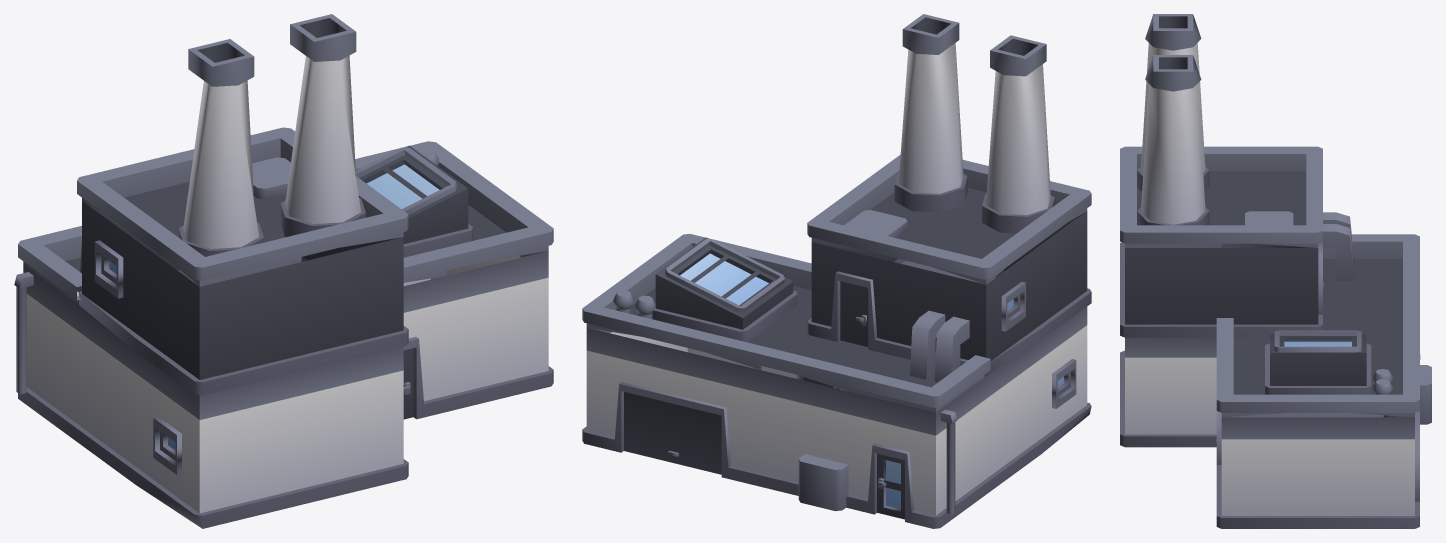
Rendered from building-e.lod.glb.
3 views of the same model, side by side, from view 1: azimuth 30°, elevation 25°; view 2: azimuth 150°, elevation 25°; view 3: azimuth 270°, elevation 25° (orthographic). The views are drawn at different scales.
Visible parts, largest first — view 1: building-e; view 2: building-e; view 3: building-e.
Part boxes in pixels (x1,y1,x2,y2): building-e: (14, 14, 553, 528); building-e: (582, 14, 1091, 528); building-e: (1120, 14, 1431, 528).
Bounding box in the file's own units: 1.68 × 1.65 × 1.29.
Materials: 1 (1 with a texture image).
